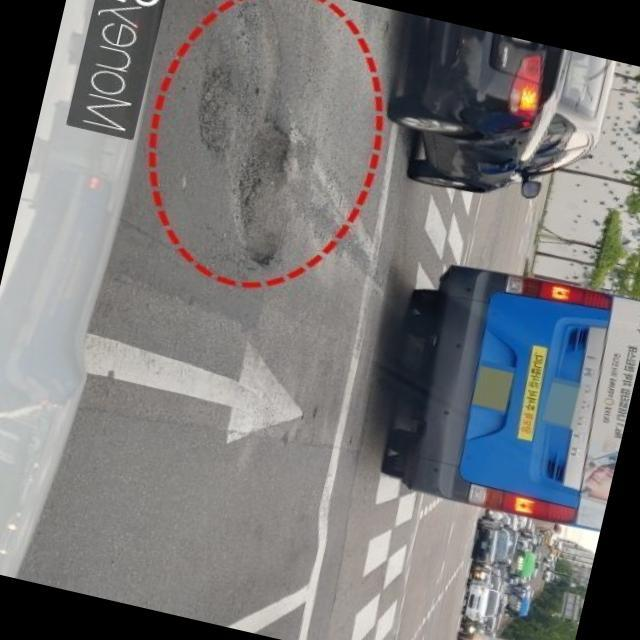pothole: (222, 107, 334, 270), (171, 51, 251, 162)
